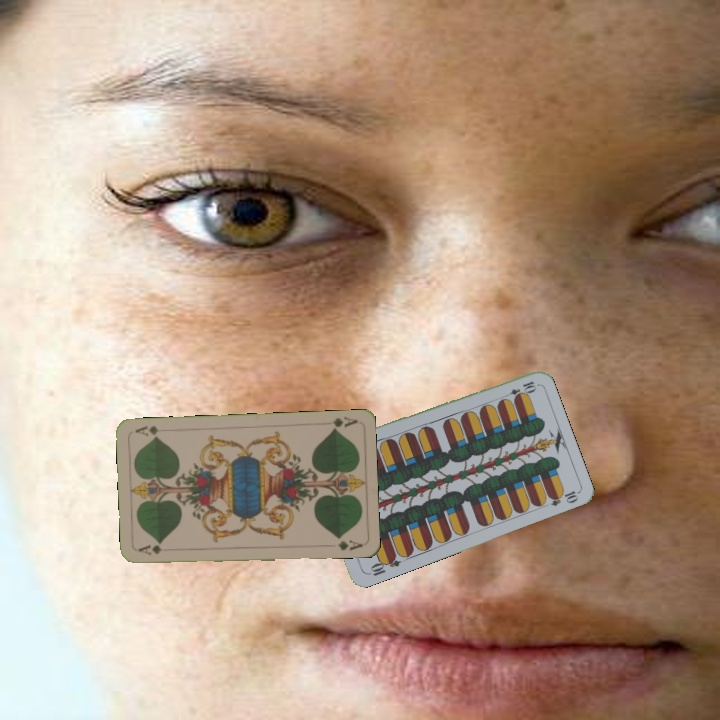E10: (364, 551, 403, 579), (499, 377, 539, 402)
GA: (328, 413, 359, 433), (135, 541, 164, 557)
